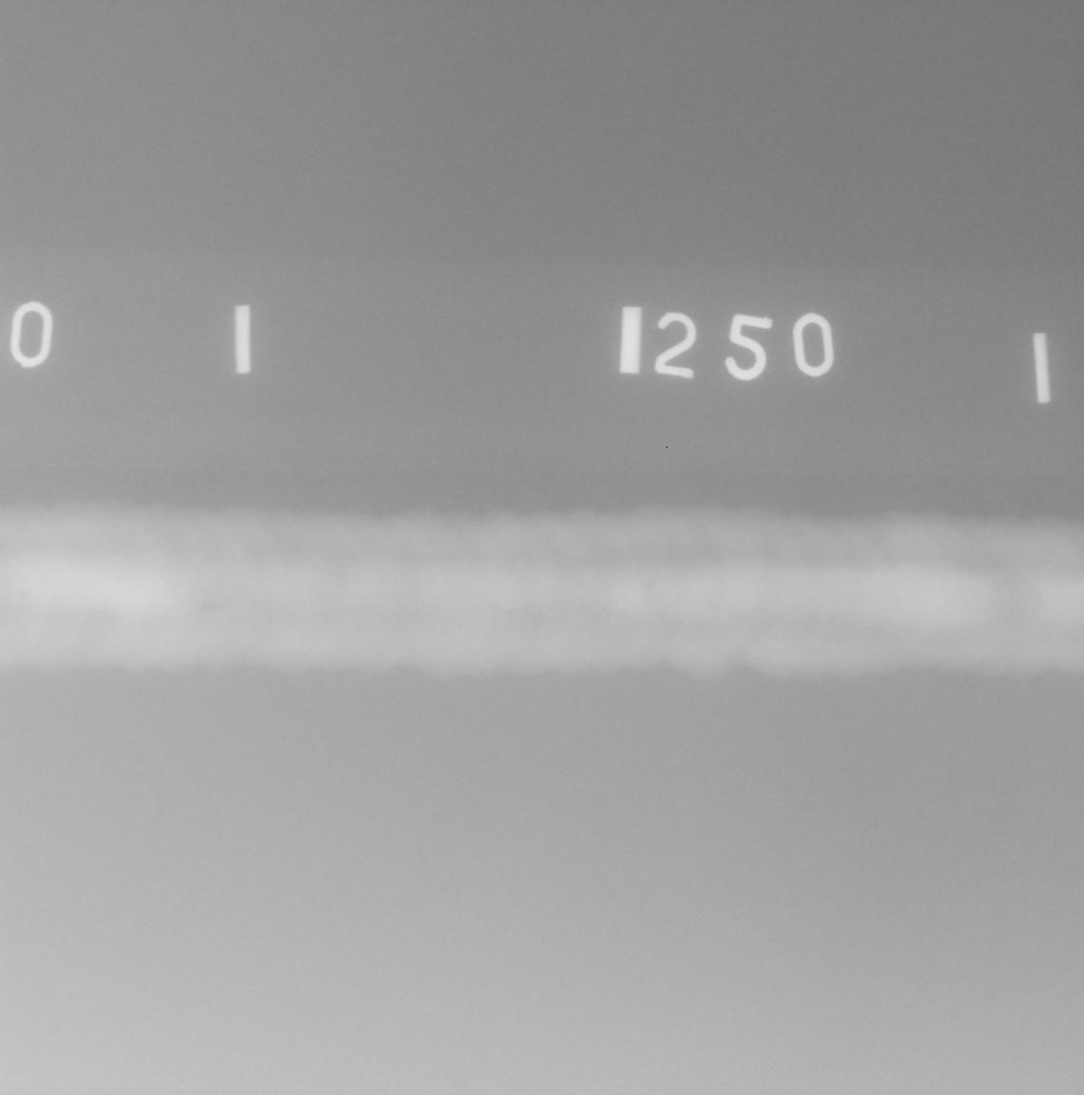Pore/Porosity: (20, 594, 26, 599)
